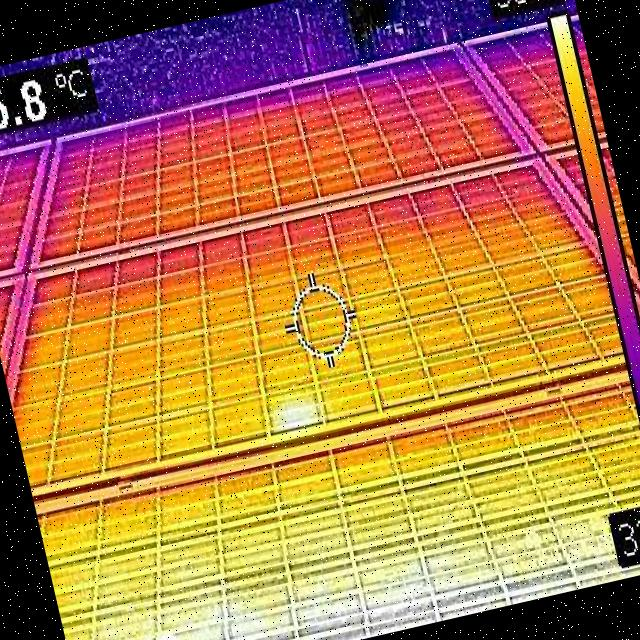Hotspot: (264, 382, 320, 434)
